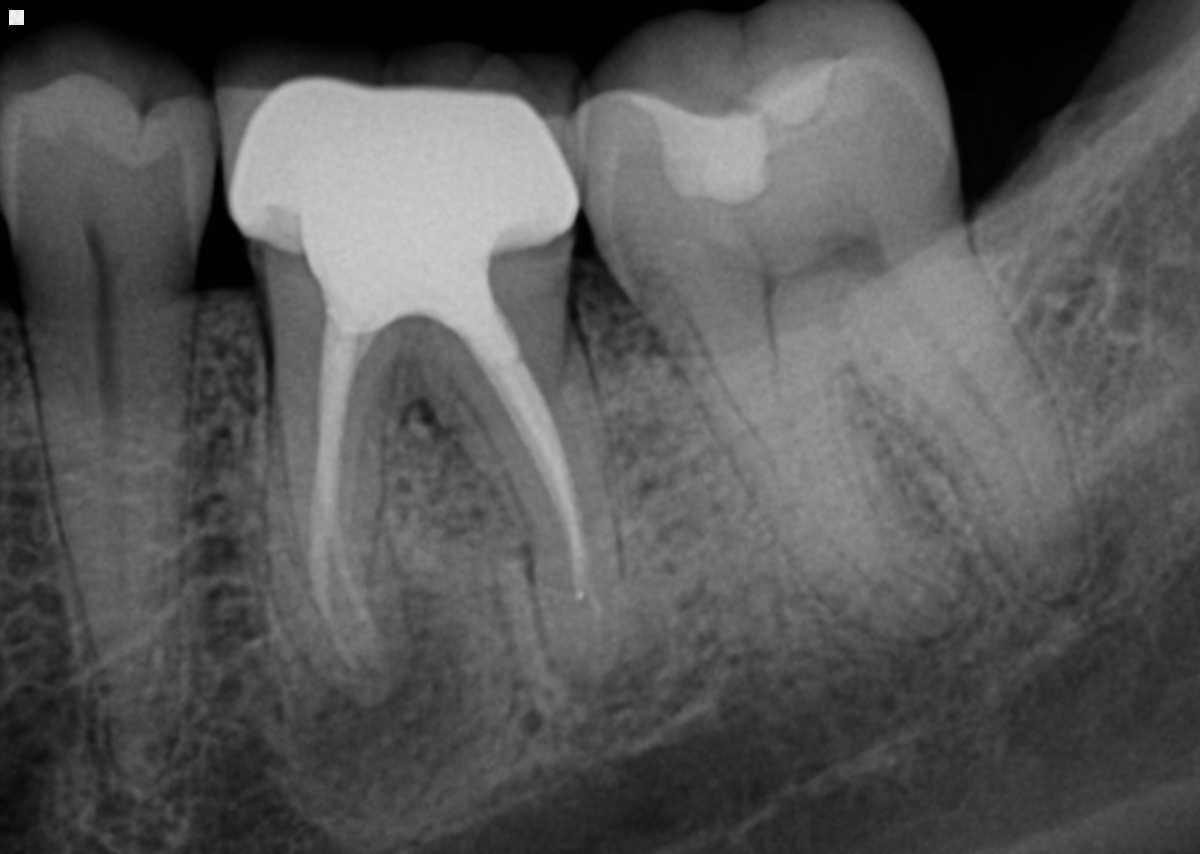Apical Lesion: (277, 585, 478, 810), (555, 595, 672, 734)
Distal Canal: (885, 279, 1050, 557)
Distal Root: (842, 228, 1089, 600), (448, 330, 628, 679)
Main Canal: (88, 300, 121, 557)
Main Root: (20, 288, 205, 793)
Mesial Root: (699, 328, 968, 636), (260, 295, 408, 691)
Root Canal Filling: (309, 324, 380, 670), (486, 363, 584, 607)
